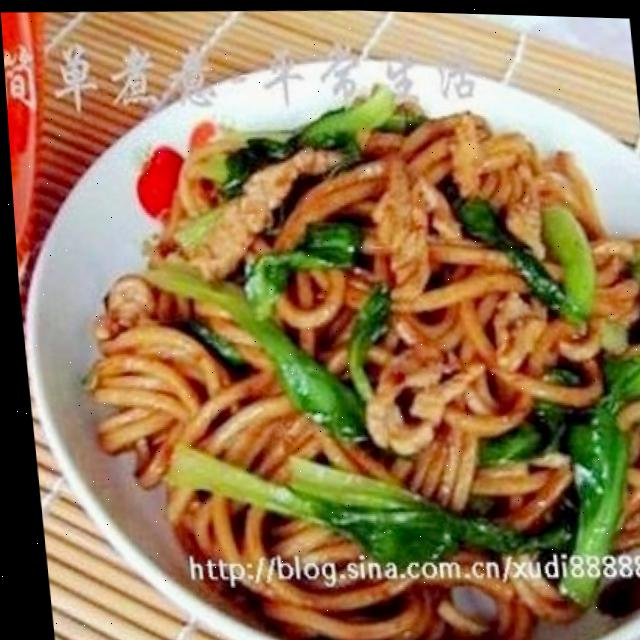面条主食: (1, 13, 640, 640)
